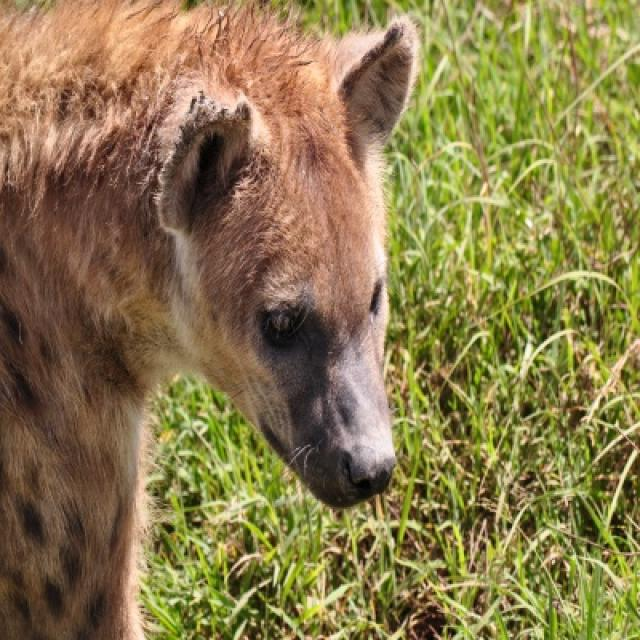hyena: (0, 0, 418, 638)
